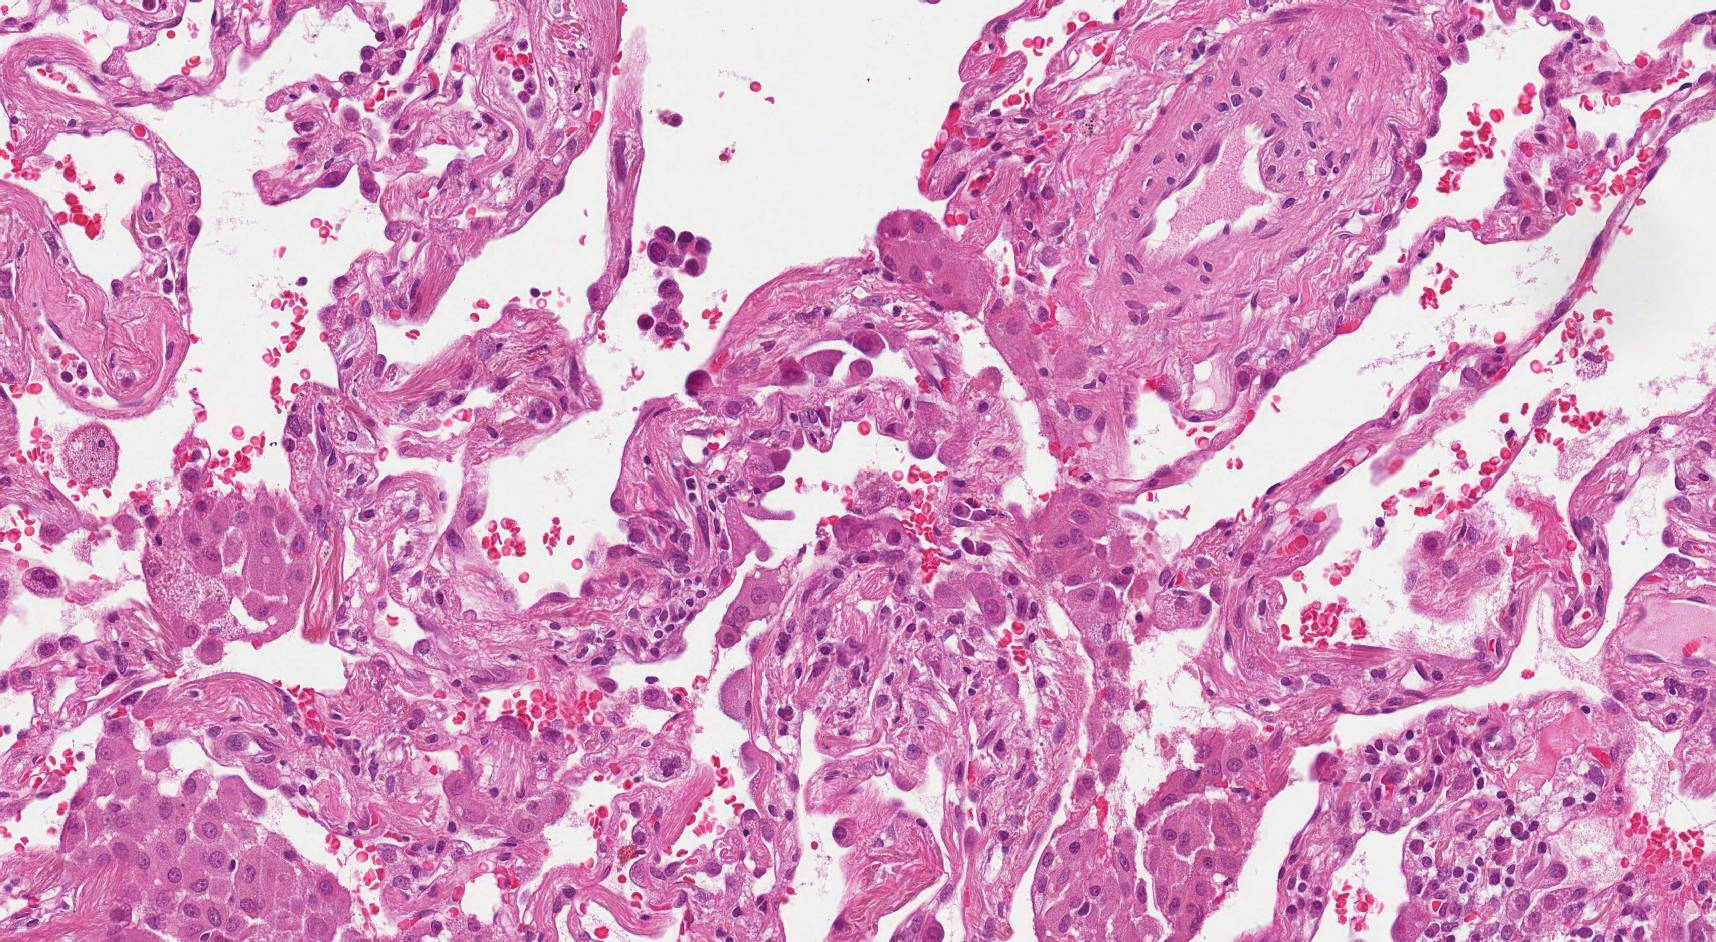stas: (633, 278, 695, 348), (645, 222, 711, 278)
